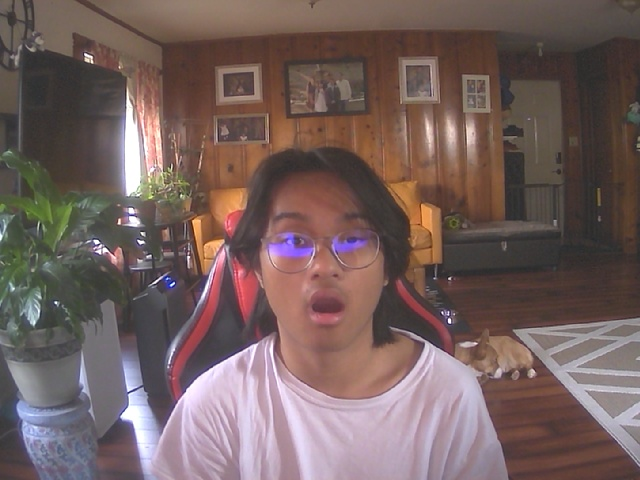fear: (250, 156, 396, 358)
